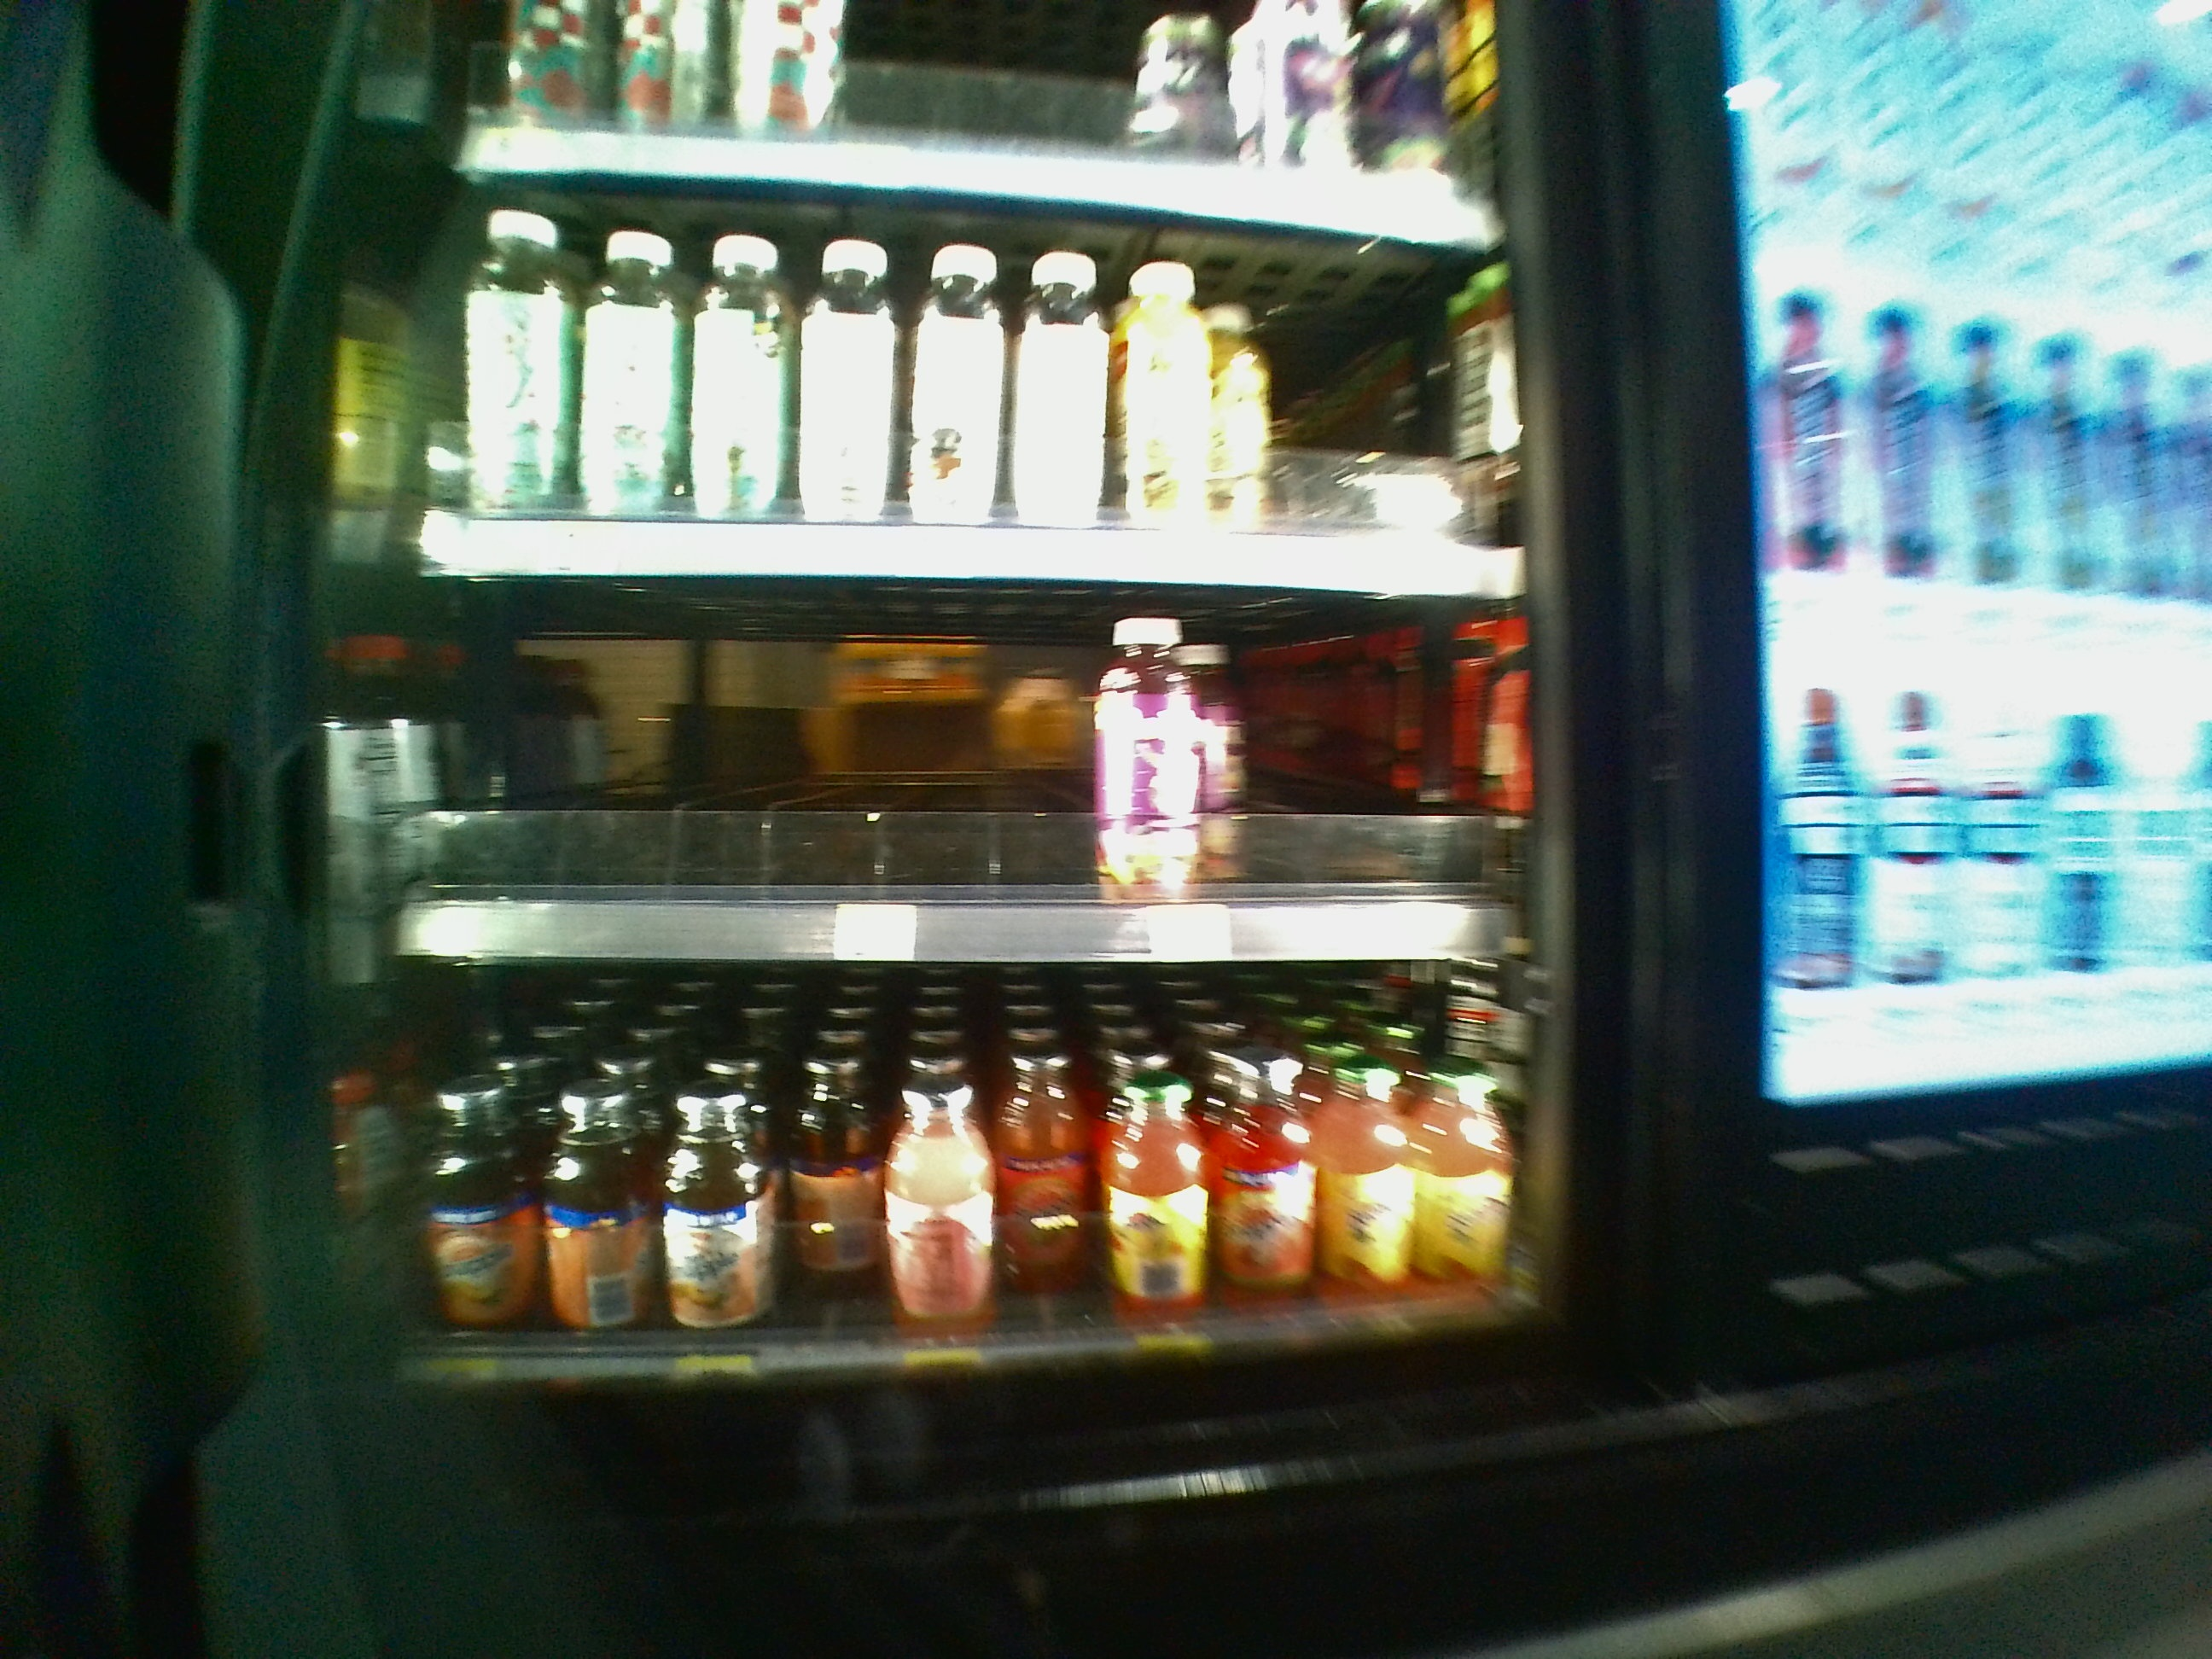shelf: (392, 979, 1529, 1382), (394, 586, 1531, 964)
